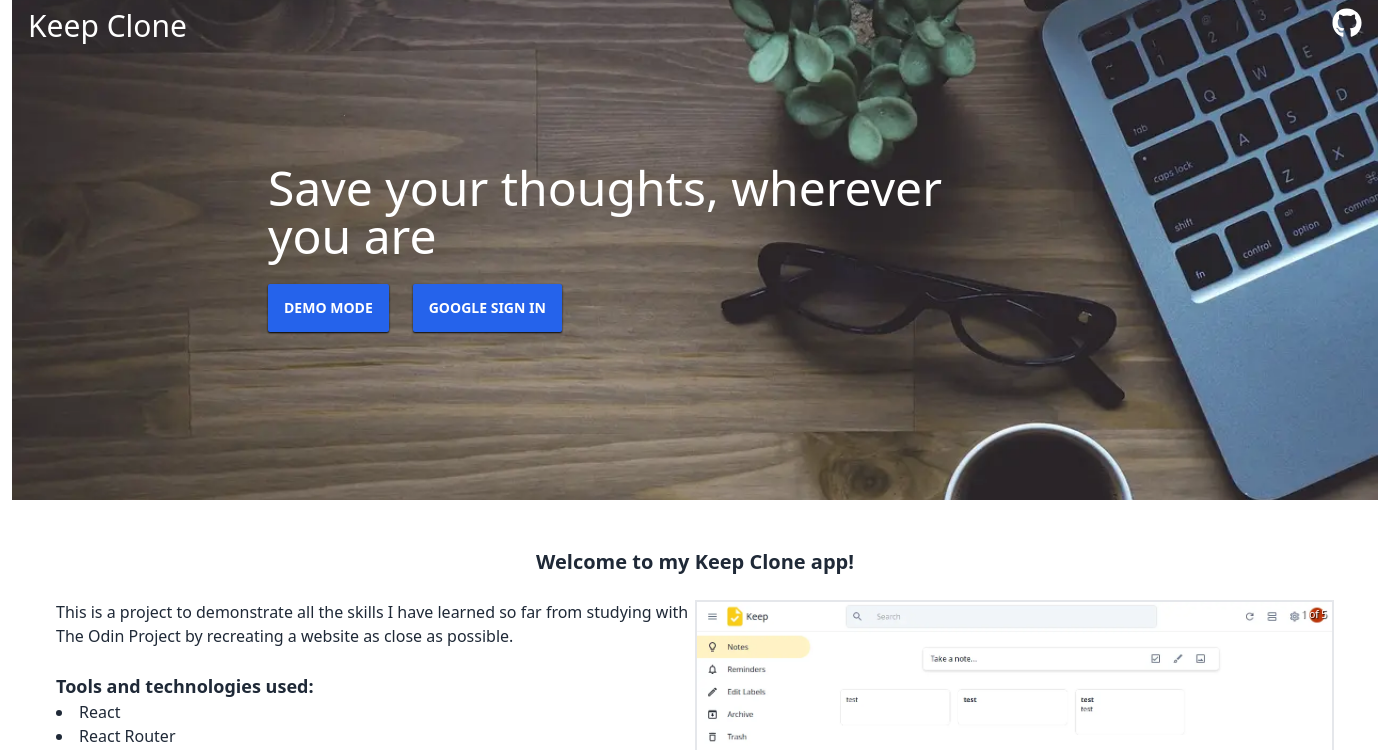
Test: demo account tests › user clicks the demo mode button
Click the button "Demo mode".
click(328, 308)  # box x1=268 y1=284 x2=389 y2=332
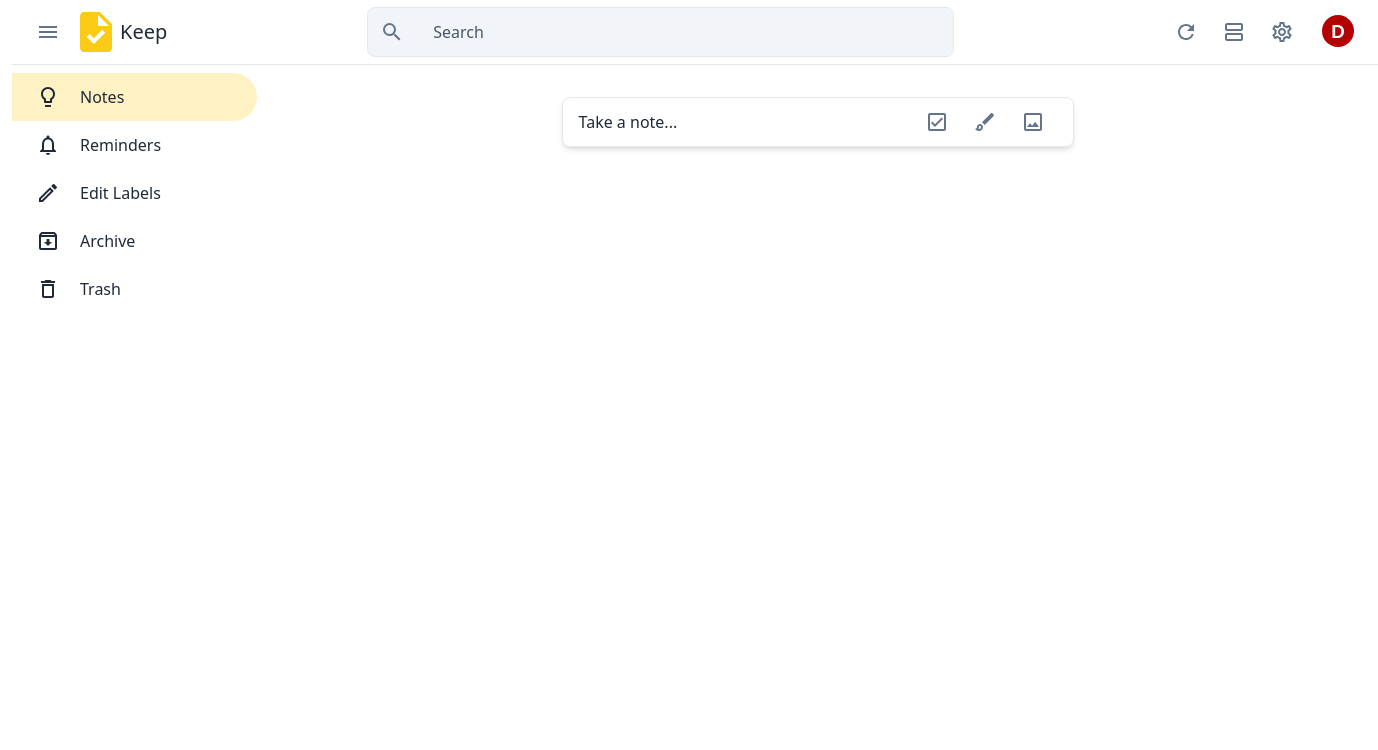
Expected: the text "Take a note..." is shown, x1=578 y1=111 x2=677 y2=133
